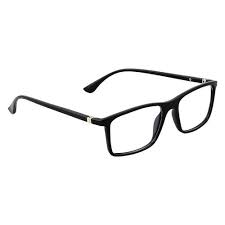g.y: (105, 102, 161, 158)
